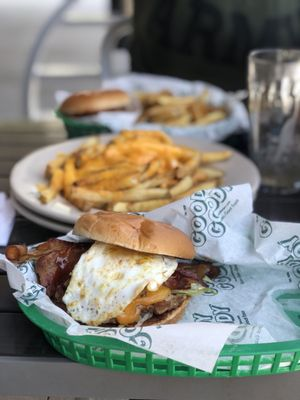pizza: (246, 48, 300, 196)
soup: (60, 210, 221, 328)
